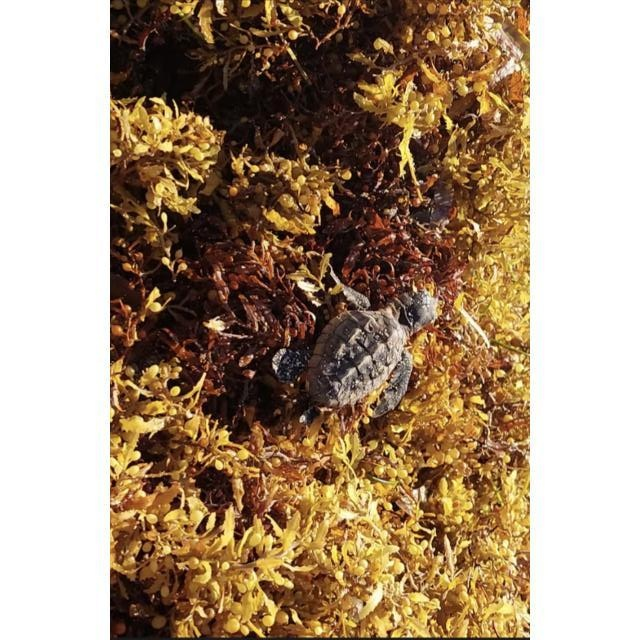turtle: (273, 265, 439, 425)
